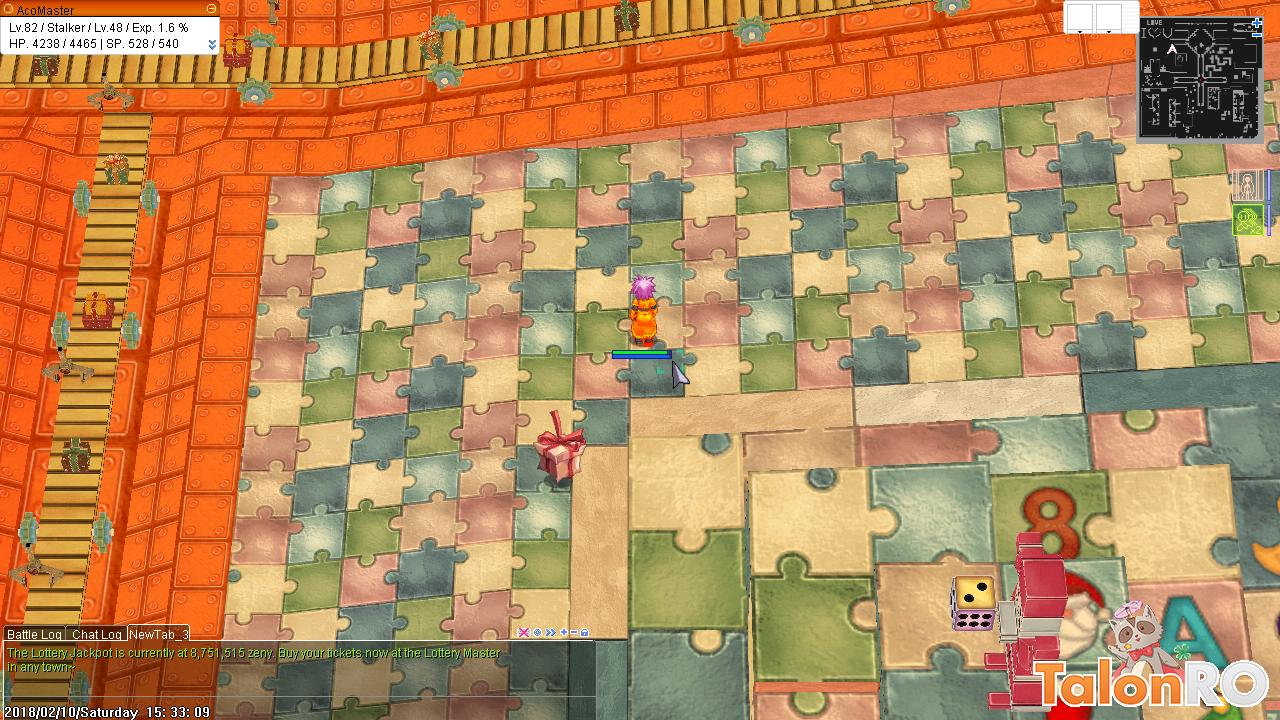myst_case: (531, 406, 589, 488)
